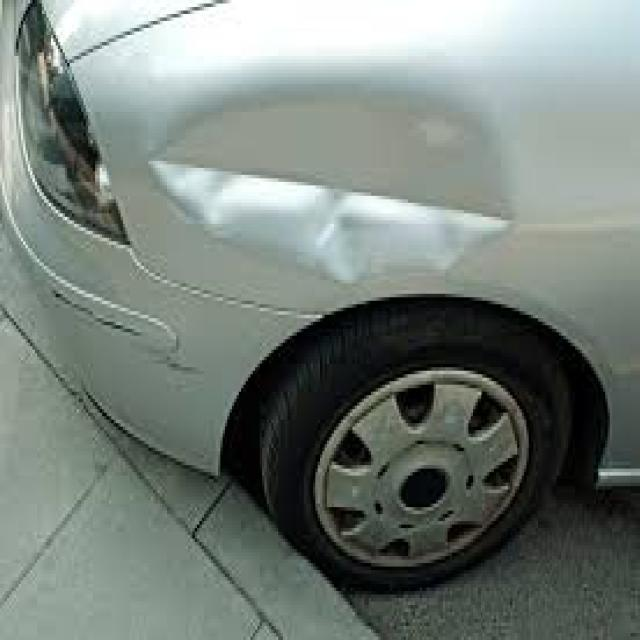Dent: (149, 77, 517, 299)
